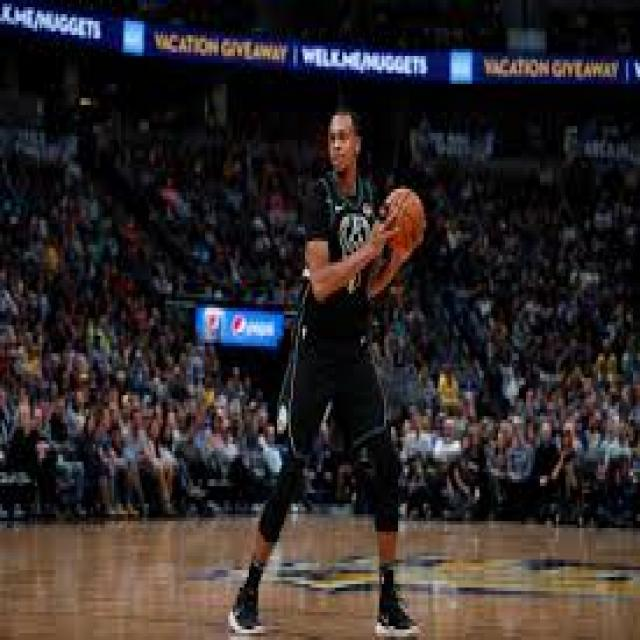rim: (386, 189, 422, 245)
